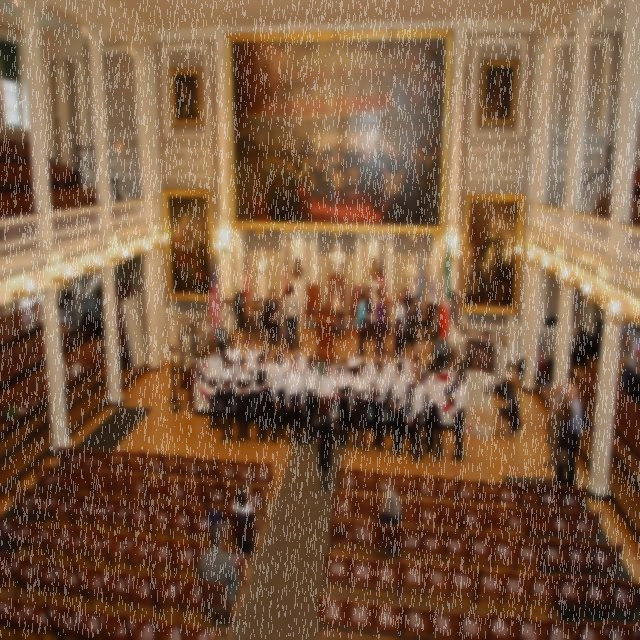pessoa: (236, 42, 443, 220), (255, 244, 421, 276), (197, 524, 241, 626), (474, 205, 510, 309), (172, 209, 207, 291), (542, 378, 570, 474), (311, 395, 338, 492), (564, 383, 585, 488), (348, 362, 372, 452), (423, 366, 445, 462), (404, 368, 425, 462), (368, 360, 388, 453), (388, 360, 407, 457), (250, 353, 270, 442), (301, 356, 321, 444), (284, 356, 304, 444), (232, 357, 252, 444), (232, 480, 255, 555), (377, 488, 403, 554), (204, 343, 223, 432), (554, 403, 574, 487), (450, 369, 468, 461), (224, 336, 242, 428), (335, 358, 353, 448), (216, 353, 234, 443), (269, 351, 286, 444), (244, 336, 261, 426), (380, 349, 396, 439), (404, 354, 420, 442), (436, 290, 464, 340), (282, 284, 301, 352), (174, 80, 200, 124), (261, 288, 280, 348), (618, 332, 636, 390), (328, 272, 344, 337), (422, 362, 434, 446), (262, 347, 274, 427), (320, 360, 338, 412), (392, 294, 406, 359), (489, 70, 507, 120), (398, 285, 428, 314), (374, 287, 386, 359), (392, 344, 412, 386), (624, 352, 640, 402), (357, 290, 368, 358), (381, 285, 394, 338), (468, 343, 491, 372), (347, 343, 363, 384), (278, 290, 290, 344), (363, 349, 380, 387), (364, 286, 375, 344), (290, 342, 308, 374), (629, 372, 640, 407), (280, 344, 292, 374), (466, 326, 490, 340), (62, 359, 68, 412), (402, 287, 407, 292)
